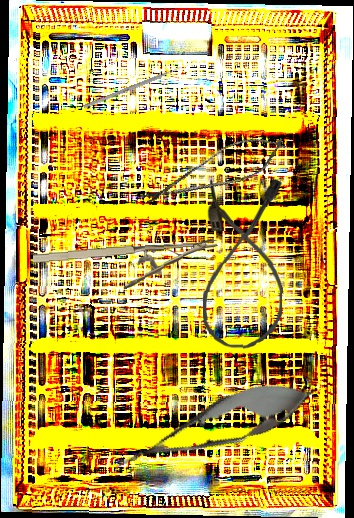Cannula: (201, 176, 287, 351)
Micro Scissor: (104, 365, 323, 490), (135, 124, 293, 220)
Needle Holder: (32, 239, 220, 294)
Pusher: (83, 63, 189, 109)
